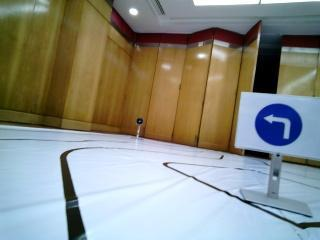left: (243, 99, 313, 149)
